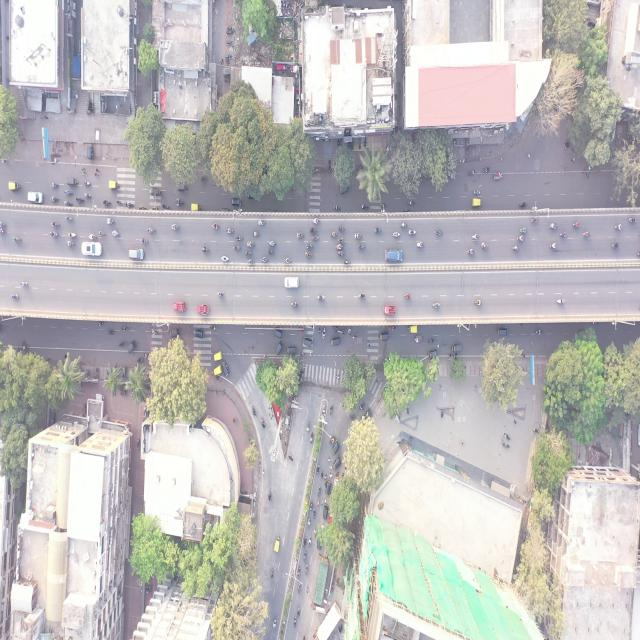3W: (212, 349, 224, 362), (7, 181, 21, 192), (332, 455, 342, 470), (322, 506, 330, 522), (212, 364, 222, 376), (332, 441, 340, 455), (127, 342, 137, 353), (496, 328, 507, 338), (451, 342, 461, 353), (275, 341, 283, 354), (472, 198, 482, 208), (150, 186, 160, 196), (231, 196, 241, 206), (303, 337, 313, 347), (223, 361, 229, 377), (195, 330, 204, 340), (380, 332, 389, 342), (331, 336, 340, 346), (286, 346, 296, 355), (326, 481, 332, 496), (429, 348, 437, 359), (170, 328, 179, 337), (409, 325, 418, 334), (273, 329, 282, 338), (192, 202, 200, 212), (109, 180, 119, 188)
Cars: (385, 248, 403, 262), (128, 248, 145, 261), (28, 190, 43, 203)
LCV: (284, 276, 300, 289), (196, 303, 210, 316), (383, 304, 396, 316), (174, 301, 186, 312), (494, 172, 502, 180)
M2W: (610, 241, 620, 250), (272, 616, 278, 630), (572, 220, 581, 229), (556, 297, 566, 305), (518, 200, 528, 208), (316, 293, 326, 301), (260, 255, 270, 263), (49, 230, 59, 238), (12, 235, 22, 243), (628, 216, 637, 224), (558, 230, 567, 238), (431, 302, 440, 310), (330, 230, 339, 238), (270, 567, 276, 579), (106, 218, 116, 225), (50, 196, 60, 203), (316, 484, 321, 498), (304, 562, 309, 575), (614, 224, 622, 232), (582, 230, 590, 238), (416, 240, 424, 248), (484, 165, 492, 173), (354, 232, 362, 240), (338, 224, 346, 232), (217, 290, 225, 298), (20, 280, 28, 288), (51, 182, 59, 190), (76, 196, 84, 204), (84, 192, 92, 200), (481, 242, 490, 249), (392, 232, 401, 239), (358, 242, 365, 251), (306, 243, 315, 250), (247, 241, 256, 248), (176, 198, 183, 207), (51, 221, 60, 228), (329, 436, 336, 445), (316, 464, 321, 476), (549, 222, 557, 229), (404, 292, 412, 299), (409, 227, 416, 235), (473, 189, 481, 196), (407, 199, 415, 206), (305, 250, 312, 258), (269, 240, 276, 248), (284, 257, 292, 264), (258, 220, 266, 227), (253, 230, 260, 238), (267, 248, 275, 255), (226, 227, 234, 234), (212, 223, 220, 230), (171, 224, 179, 231), (140, 238, 148, 245), (103, 198, 111, 205), (107, 329, 115, 336), (96, 320, 103, 328), (118, 340, 126, 347), (65, 190, 73, 197), (65, 200, 72, 208), (312, 506, 316, 520), (150, 328, 157, 336), (549, 242, 558, 248), (516, 235, 525, 241), (472, 234, 481, 240), (338, 237, 347, 243), (296, 232, 305, 238), (247, 258, 256, 264), (221, 256, 230, 262), (112, 230, 121, 236), (121, 326, 130, 332), (322, 327, 326, 340), (297, 581, 301, 594), (308, 535, 312, 548), (309, 501, 313, 514), (320, 468, 324, 481), (531, 217, 538, 224), (467, 247, 474, 254), (435, 229, 442, 236), (336, 244, 343, 251), (359, 292, 366, 299), (361, 203, 368, 210), (89, 233, 96, 240), (519, 226, 527, 232), (512, 244, 520, 250), (474, 300, 482, 306), (400, 221, 408, 227), (374, 227, 382, 233), (467, 170, 475, 176), (310, 228, 318, 234), (381, 202, 389, 208), (201, 246, 209, 252), (148, 227, 156, 233), (125, 202, 133, 208), (99, 230, 105, 238), (66, 216, 74, 222), (10, 293, 18, 299), (310, 432, 314, 444), (293, 616, 297, 628), (303, 550, 307, 562), (303, 536, 307, 548), (138, 205, 147, 210), (68, 232, 77, 237), (306, 422, 310, 433), (296, 606, 300, 617), (307, 517, 311, 528), (337, 251, 344, 257), (343, 259, 350, 265), (312, 235, 319, 241), (290, 301, 296, 308), (390, 324, 396, 331), (245, 250, 252, 256), (236, 235, 243, 241), (234, 244, 241, 250), (115, 198, 122, 204), (84, 180, 91, 186), (329, 404, 333, 414), (316, 498, 320, 508), (536, 328, 542, 334), (313, 218, 319, 224), (342, 328, 346, 337), (428, 338, 435, 343), (348, 328, 352, 336), (335, 206, 341, 211), (162, 204, 168, 209), (152, 206, 159, 210), (298, 568, 301, 576)
